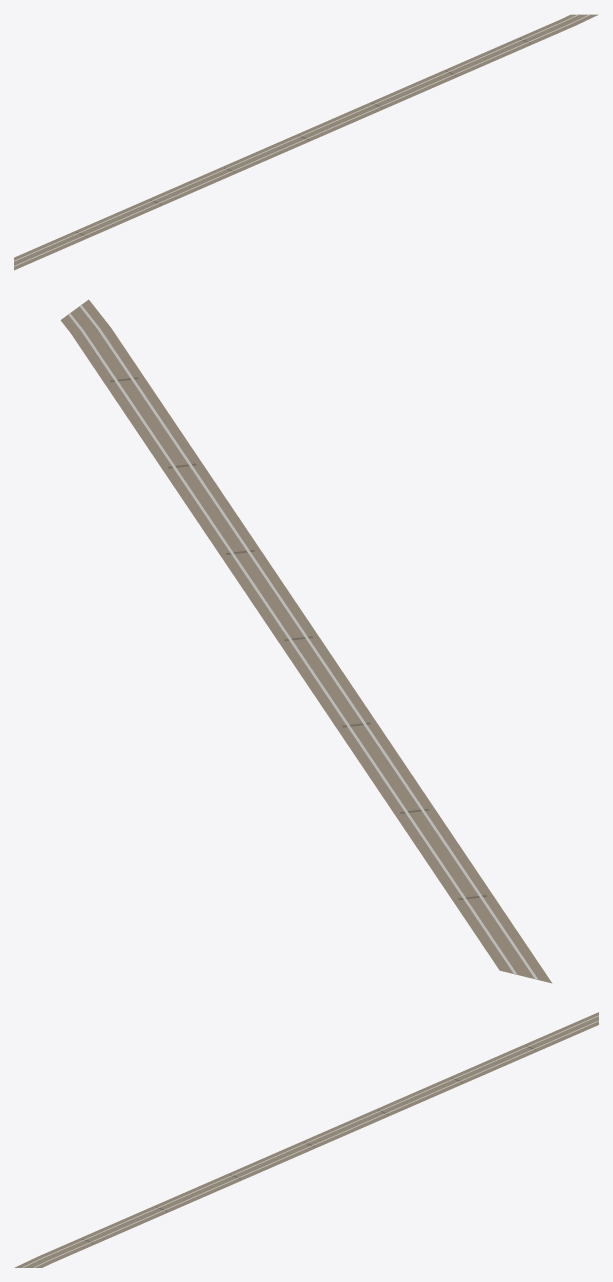
3 renders of one model, top to bottom at view 1: azimuth 90°, elevation 25°; view 2: azimuth 150°, elevation 25°; view 3: azimuth 270°, elevation 25°, orthographic. The views are drawn at different scales.
Parts seen in each view (by area): view 1: rail; view 2: rail; view 3: rail.
Boxes of the visible parts, bbox=[...] form: rail: bbox=[14, 14, 598, 270]; rail: bbox=[60, 299, 552, 983]; rail: bbox=[14, 1012, 598, 1267].
Bounding box in the file's own units: 103 × 0.04 × 99.19.
